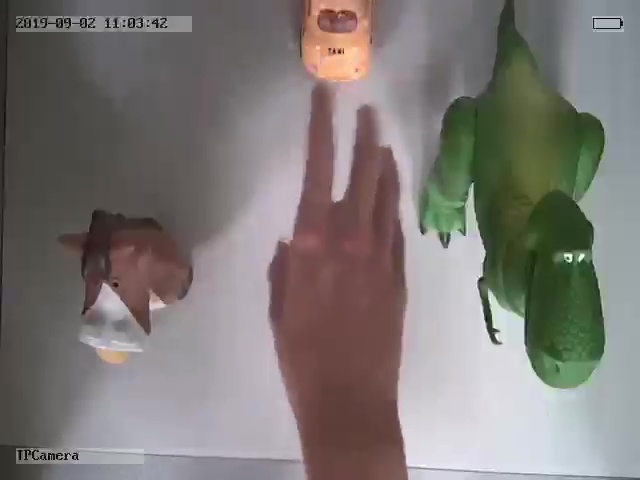horse: (56, 209, 193, 363)
rex: (419, 4, 606, 390)
